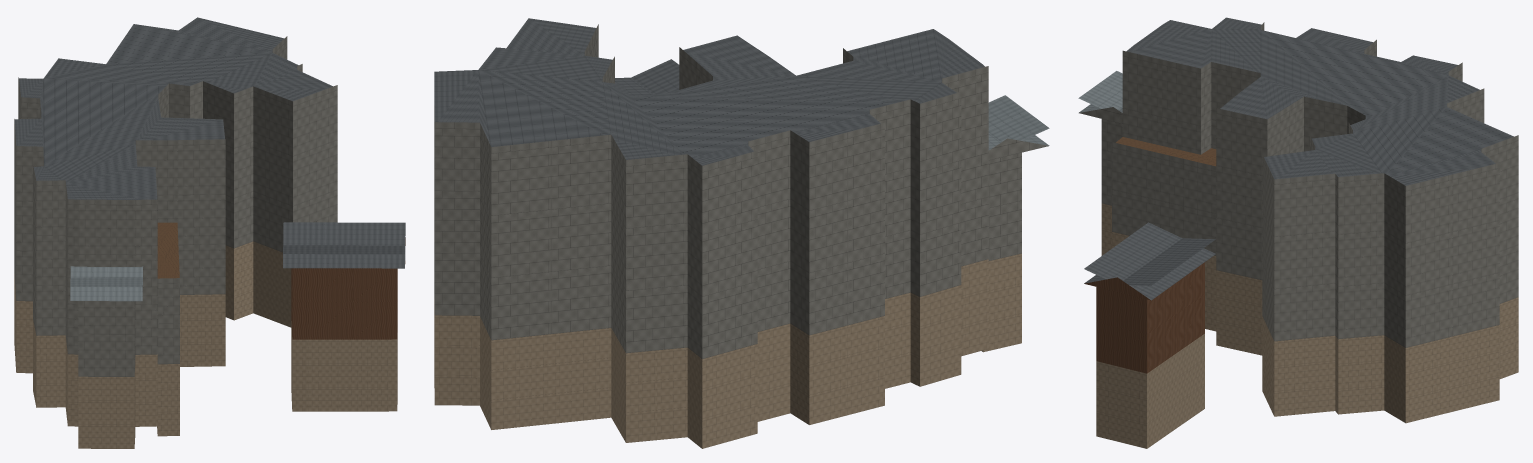
The model's file is bld_c-2_-1_540.gltf.
The picture shows the model from 3 angles, left to right: view 1: azimuth 30°, elevation 25°; view 2: azimuth 150°, elevation 25°; view 3: azimuth 270°, elevation 25°; orthographic projection. The views are drawn at different scales.
Parts seen in each view (by area): view 1: bld_c-2_-1_540; view 2: bld_c-2_-1_540; view 3: bld_c-2_-1_540.
Part boxes in pixels (x1,y1,x2,y2): bld_c-2_-1_540: (14,17,405,448); bld_c-2_-1_540: (434,18,1049,448); bld_c-2_-1_540: (1078,17,1518,448).
Size of the model in its own units: 26.35 by 18.28 by 27.04.
Materials: 8 (8 with a texture image).
